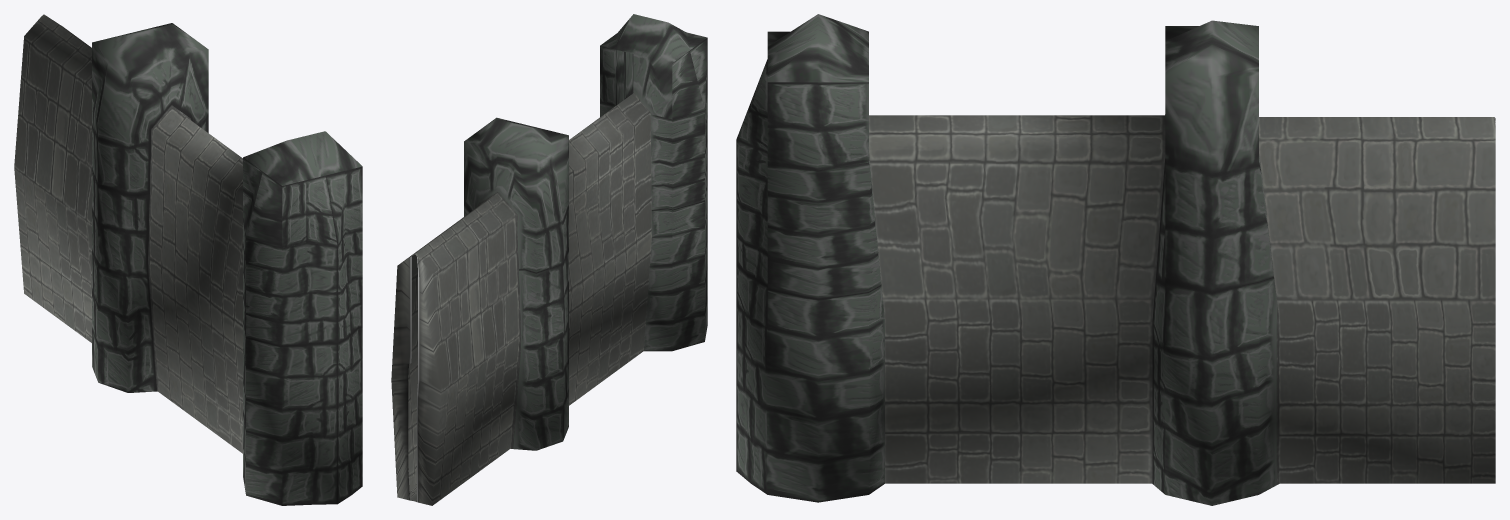
File: Muro_Pedra(ponta).fbx
3 views of the same model, side by side, from view 1: azimuth 30°, elevation 25°; view 2: azimuth 150°, elevation 25°; view 3: azimuth 270°, elevation 25° (orthographic). The views are drawn at different scales.
Visible parts, largest first — view 1: Cube; view 2: Cube; view 3: Cube.
Part boxes in pixels (x1,y1,x2,y2): Cube: [14, 14, 362, 505]; Cube: [391, 14, 707, 505]; Cube: [736, 14, 1495, 505].
Size of the model in its own units: 3.58 by 10.3 by 15.91.
